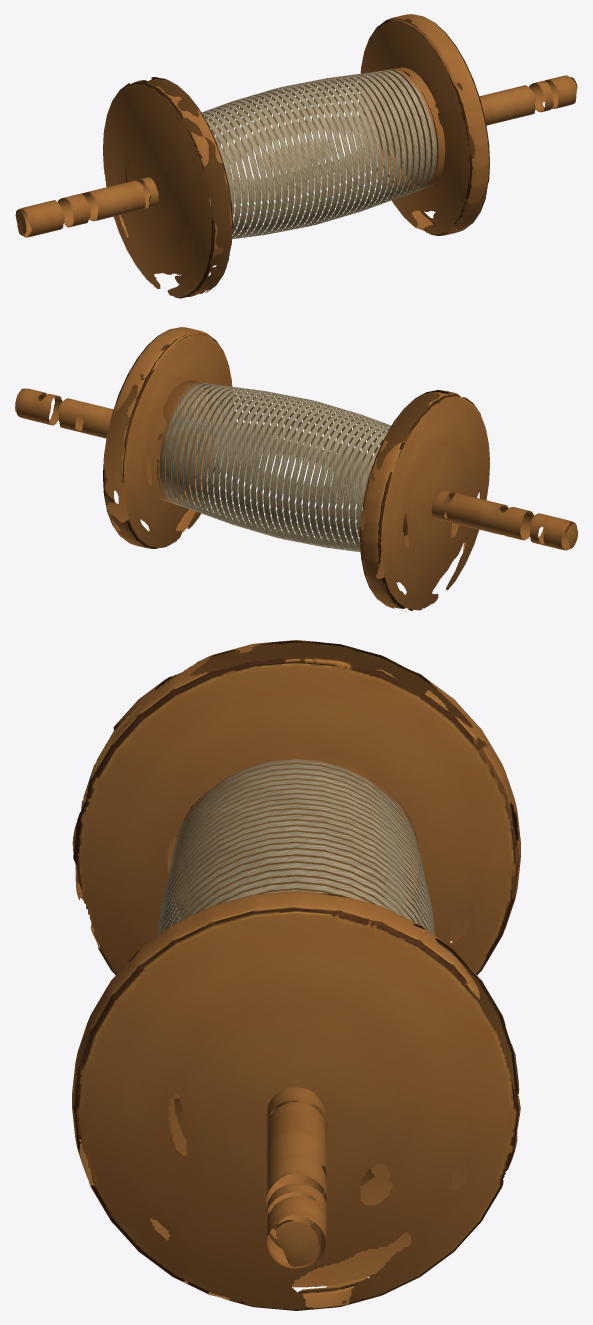
Rendered from spool.obj.
The picture shows the model from 3 angles, top to bottom: view 1: azimuth 30°, elevation 25°; view 2: azimuth 150°, elevation 25°; view 3: azimuth 270°, elevation 25°; orthographic projection. The views are drawn at different scales.
Parts seen in each view (by area): view 1: kiteRoller:Mesh; view 2: kiteRoller:Mesh; view 3: kiteRoller:Mesh.
Part boxes in pixels (bbox=[...]): kiteRoller:Mesh: bbox=[15, 14, 577, 298]; kiteRoller:Mesh: bbox=[15, 327, 577, 611]; kiteRoller:Mesh: bbox=[72, 640, 520, 1310].
Size of the model in its own units: 42.99 by 15.16 by 15.16.
